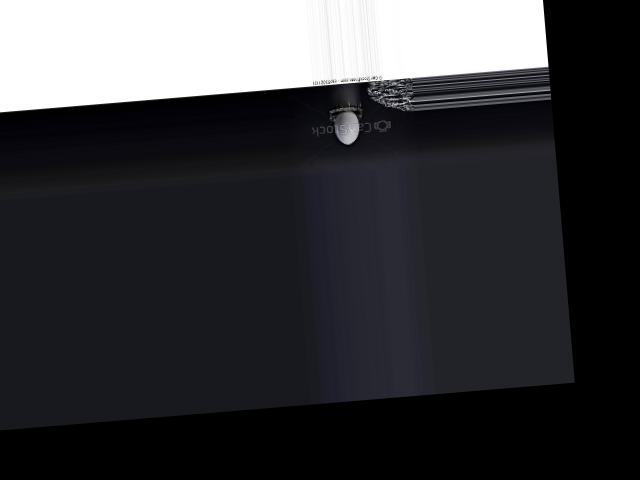egg: (332, 109, 360, 144)
